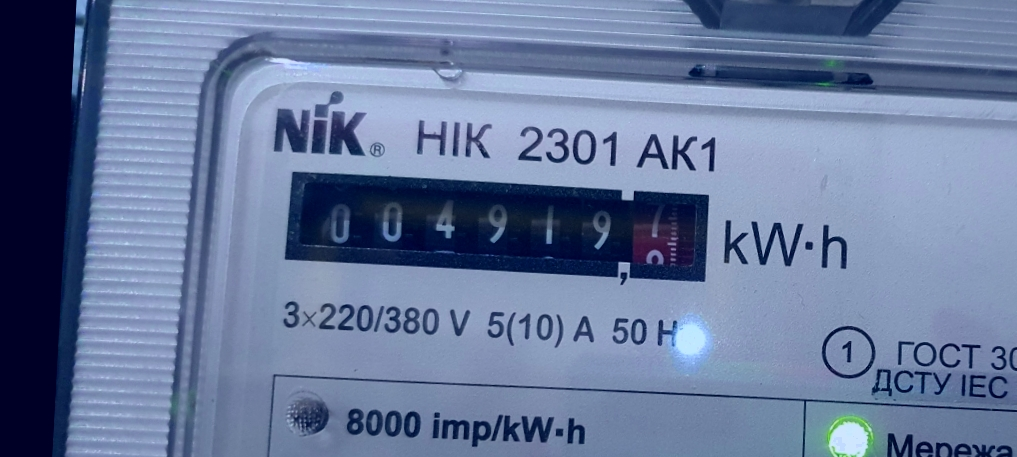0: (377, 198, 406, 244), (326, 200, 352, 245)
1: (540, 201, 557, 247)
4: (430, 195, 457, 240)
7: (641, 200, 666, 240)
9: (587, 206, 613, 253), (484, 201, 509, 246)
screen: (272, 157, 727, 300)
